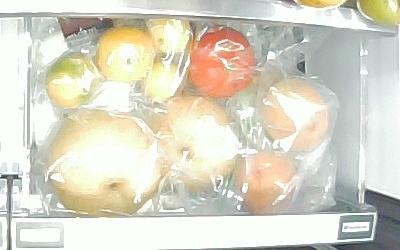peach_vinyl: (259, 77, 329, 154), (233, 151, 298, 215)
pear_vinyl: (44, 109, 160, 215), (153, 94, 243, 193)
tangerine_vinyl: (94, 27, 155, 81), (44, 52, 98, 107), (141, 61, 182, 106), (149, 18, 191, 57)
tomato_vinyl: (187, 26, 257, 97)
